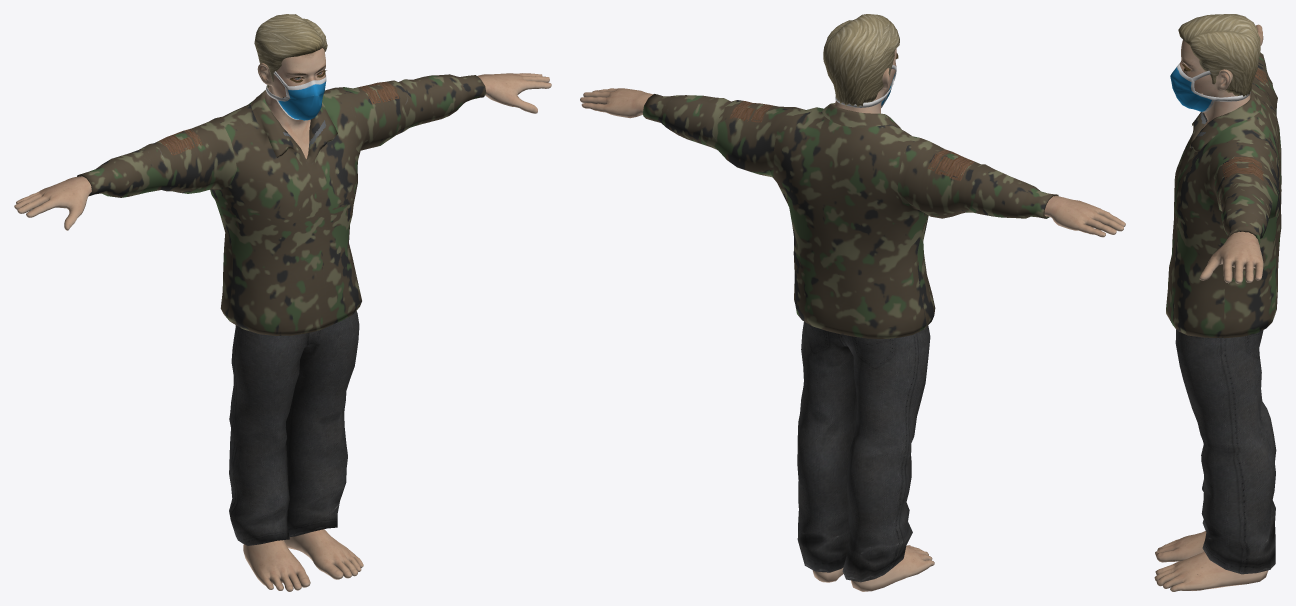
3 renders of one model, left to right at view 1: azimuth 30°, elevation 25°; view 2: azimuth 150°, elevation 25°; view 3: azimuth 270°, elevation 25°, orthographic.
Parts seen in each view (by area): view 1: Tops, Bottoms, Body, Hair, Masks; view 2: Tops, Bottoms, Body, Hair; view 3: Tops, Bottoms, Body, Hair, Masks.
Part boxes in pixels (box(x1,y1,x2,y2)): Tops: box(77, 74, 486, 335); Bottoms: box(229, 311, 359, 545); Body: box(14, 48, 551, 591); Hair: box(254, 14, 327, 87); Masks: box(265, 71, 326, 120); Tops: box(643, 94, 1058, 338); Bottoms: box(797, 321, 930, 582); Body: box(580, 48, 1125, 591); Hair: box(823, 14, 899, 106); Tops: box(1166, 52, 1281, 338); Bottoms: box(1175, 329, 1276, 574); Body: box(1154, 24, 1268, 591); Hair: box(1178, 14, 1260, 96); Masks: box(1170, 63, 1250, 112).
Size of the model in its own units: 181 by 177 by 36.69.
6 materials, 6 textured.
